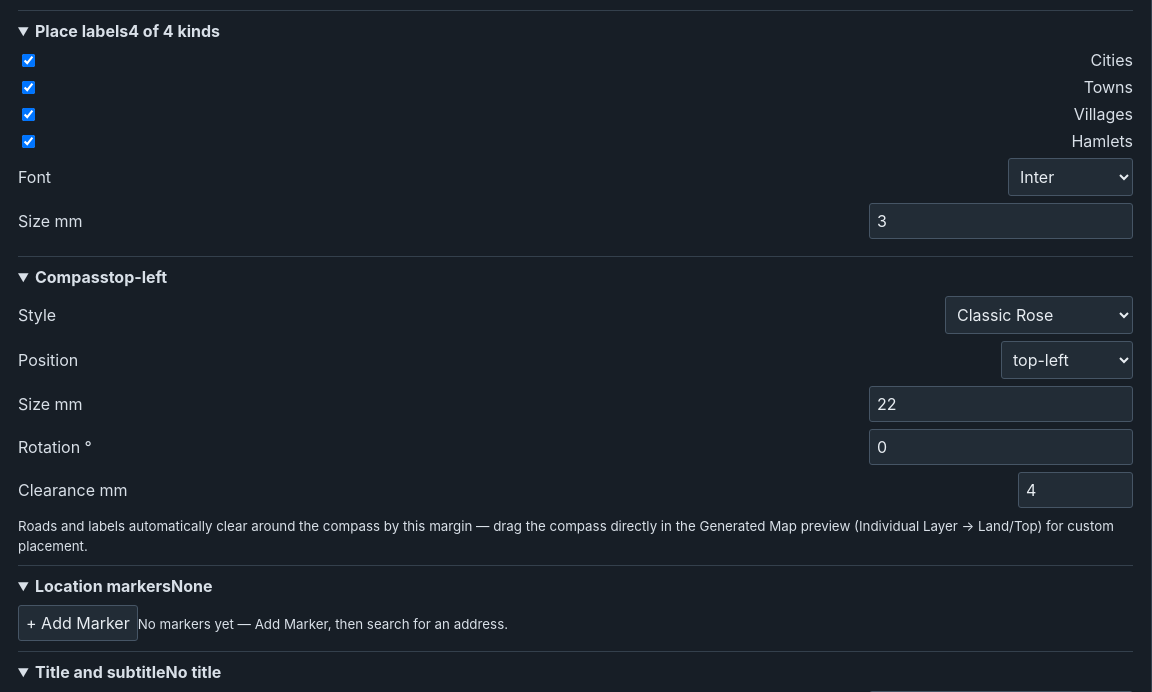
Test: Controls: settings that do more than store a value › moving the compass to a corner places it at that corner for this product size
(page scrolled)
Select "top-right" in the dropdown labelled "Position" at (1067, 360), box top-left (1001, 341), bottom-right (1133, 379)
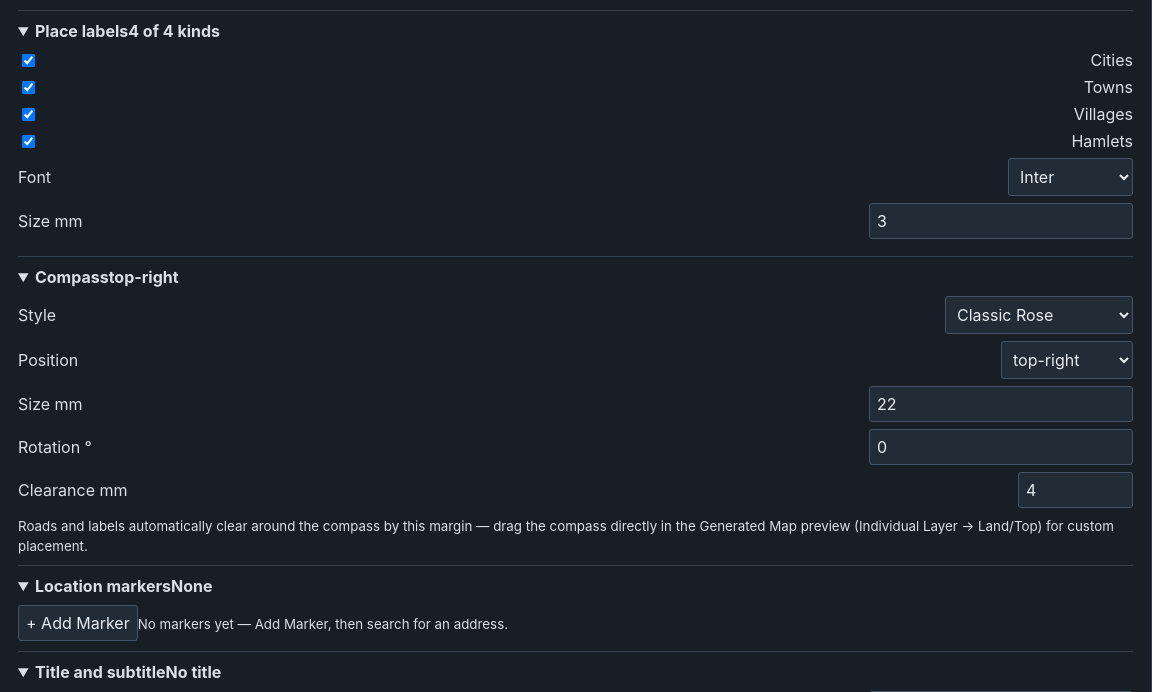
Select "off" in the dropdown labelled "Position" at (1067, 360), box top-left (1001, 341), bottom-right (1133, 379)
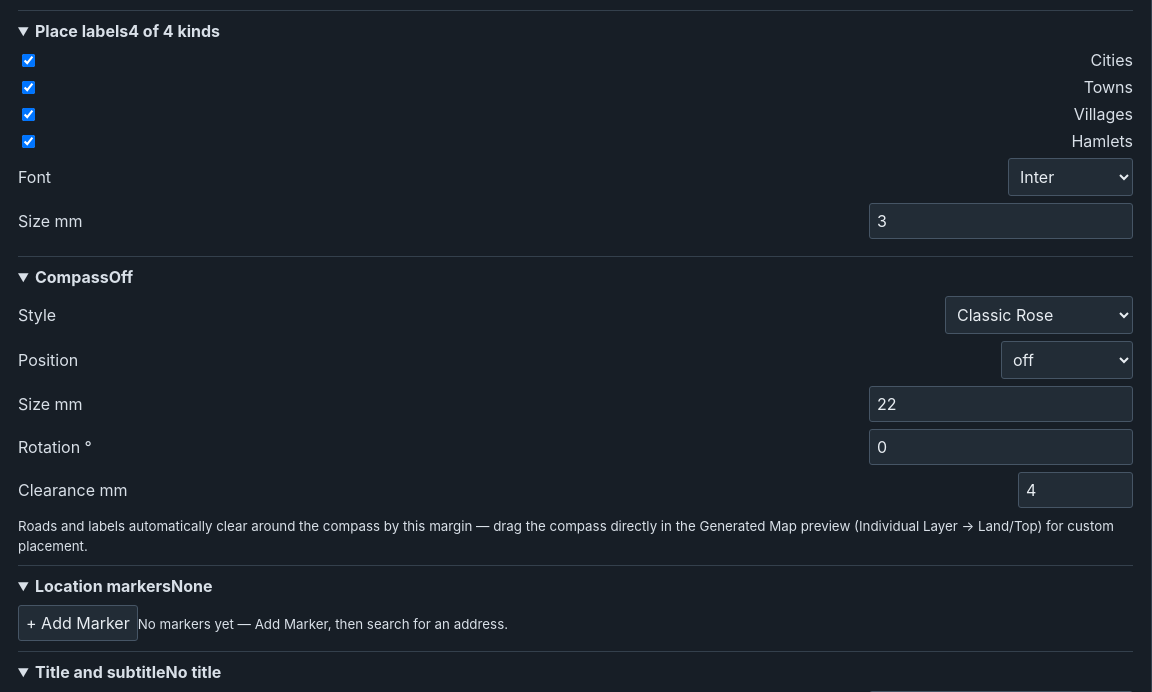
Check: the heading "CompassOff" is shown, box top-left (35, 267), bottom-right (133, 287)
